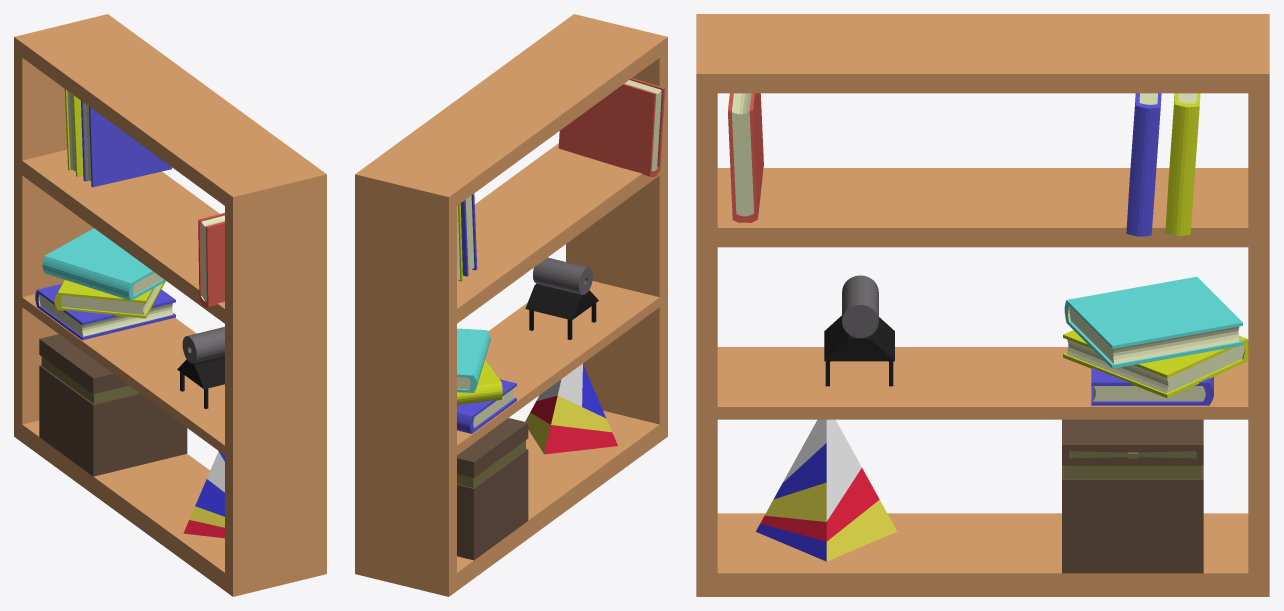
The model's file is book_shelf_.fbx.
3 renders of one model, left to right at view 1: azimuth 30°, elevation 25°; view 2: azimuth 150°, elevation 25°; view 3: azimuth 270°, elevation 25°, orthographic. The views are drawn at different scales.
Visible parts, largest first — view 1: Cube.001, Cube, Cube.007, Cube.005, Cube.002, Cylinder, Cube.003, Cube.004, Cone, Cube.006; view 2: Cube.001, Cube, Cube.004, Cone, Cylinder, Cube.007, Cube.002, Cube.005, Cube.003; view 3: Cube.001, Cube, Cone, Cube.007, Cube.003, Cylinder, Cube.004, Cube.005, Cube.006, Cube.002.
Boxes of the visible parts, bbox=[...] form: Cube.001: bbox=[14, 14, 326, 596]; Cube: bbox=[39, 334, 187, 476]; Cube.007: bbox=[42, 228, 165, 300]; Cube.005: bbox=[81, 101, 171, 187]; Cube.002: bbox=[35, 284, 175, 340]; Cylinder: bbox=[177, 327, 224, 408]; Cube.003: bbox=[54, 279, 165, 318]; Cube.004: bbox=[198, 212, 224, 307]; Cone: bbox=[183, 451, 224, 538]; Cube.006: bbox=[64, 89, 83, 176]; Cube.001: bbox=[355, 14, 667, 596]; Cube: bbox=[457, 418, 528, 560]; Cube.004: bbox=[558, 78, 665, 177]; Cone: bbox=[525, 363, 617, 454]; Cylinder: bbox=[525, 257, 598, 339]; Cube.007: bbox=[457, 328, 490, 392]; Cube.002: bbox=[457, 379, 516, 433]; Cube.005: bbox=[460, 193, 477, 276]; Cube.003: bbox=[457, 360, 502, 404]; Cube.001: bbox=[696, 14, 1269, 596]; Cube: bbox=[1062, 419, 1203, 573]; Cone: bbox=[756, 419, 897, 561]; Cube.007: bbox=[1064, 276, 1242, 368]; Cube.003: bbox=[1063, 330, 1248, 398]; Cylinder: bbox=[824, 275, 894, 386]; Cube.004: bbox=[728, 93, 763, 222]; Cube.005: bbox=[1126, 93, 1161, 236]; Cube.006: bbox=[1165, 93, 1200, 235]; Cube.002: bbox=[1091, 368, 1213, 405].
Size of the model in its own units: 273 by 814 by 809.
